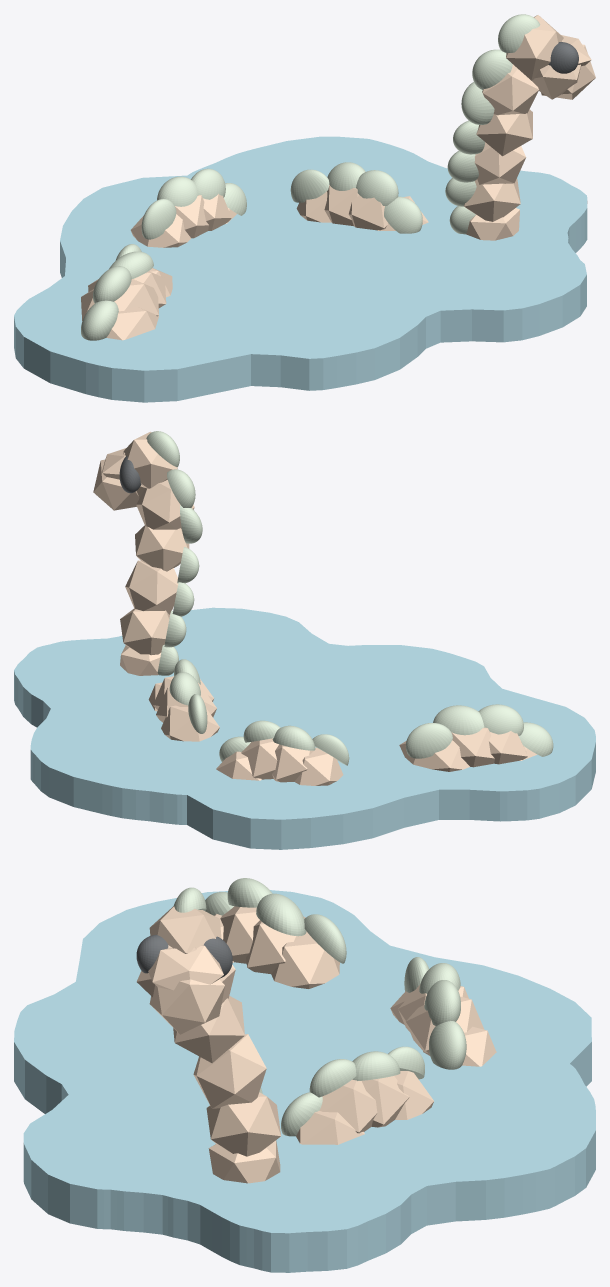
File: Escocia.glb
3 views of the same model, one above another, from view 1: azimuth 30°, elevation 25°; view 2: azimuth 150°, elevation 25°; view 3: azimuth 270°, elevation 25° (orthographic). The views are drawn at different scales.
Visible parts, largest first — view 1: Mesh_Mesh_head_geo.001_lambert2SG.001; view 2: Mesh_Mesh_head_geo.001_lambert2SG.001; view 3: Mesh_Mesh_head_geo.001_lambert2SG.001.
Boxes of the visible parts, box(x1,y1,x2,y2) form: Mesh_Mesh_head_geo.001_lambert2SG.001: box(14, 14, 595, 402); Mesh_Mesh_head_geo.001_lambert2SG.001: box(14, 431, 595, 849); Mesh_Mesh_head_geo.001_lambert2SG.001: box(14, 878, 595, 1272).
Size of the model in its own units: 0.186 by 0.0814 by 0.133.
